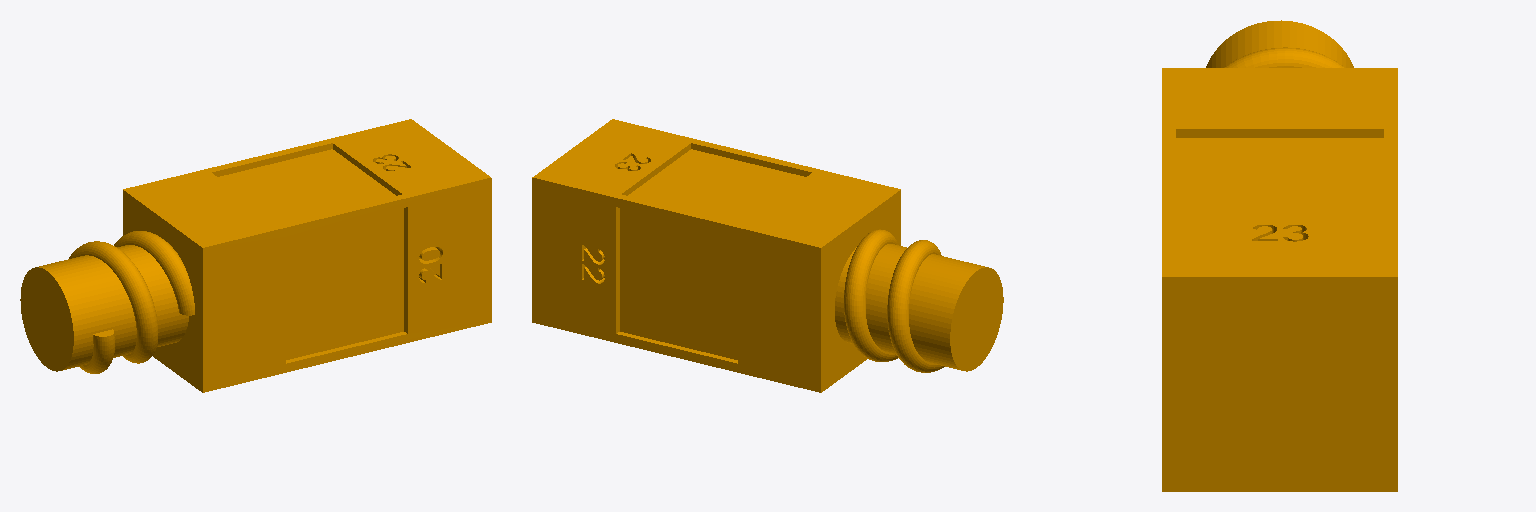
URDF robot description (square_table_leg4):
<?xml version="1.0"?>
<robot name="square_table_leg4">
  <link name="square_table_leg4">
    <visual>
      <origin xyz="0 0 0" rpy="0 0 0"/>
      <geometry><mesh filename="square_table_leg4_canonical.obj" scale="1 1 1"/></geometry>
    </visual>
    <collision>
      <origin xyz="0 0 0" rpy="0 0 0"/>
      <geometry><mesh filename="square_table_leg4_canonical.obj" scale="1 1 1"/></geometry>
    </collision>
    <inertial><density value="800.0"/></inertial>
  </link>
</robot>

--- What the picture shows (computed from the rendered views, not written in the file) ---
Views: 3 orthographic renders of the robot side by side, from view 1: azimuth 30°, elevation 25°; view 2: azimuth 150°, elevation 25°; view 3: azimuth 270°, elevation 25°.
Model square_table_leg4 with 1 links and 0 joints (none), rooted at square_table_leg4, posed every joint at zero.
Visible links, largest first — view 1: square_table_leg4; view 2: square_table_leg4; view 3: square_table_leg4.
Boxes of the visible links, bbox=[...] form: square_table_leg4: bbox=[20, 119, 491, 392]; square_table_leg4: bbox=[532, 119, 1003, 392]; square_table_leg4: bbox=[1162, 20, 1397, 491].
Bounding box of the posed robot: 0.0875 × 0.03 × 0.03 m (x, y, z).
Meshes: 1 distinct files referenced, 1 mesh visuals loaded (1 OBJ).
